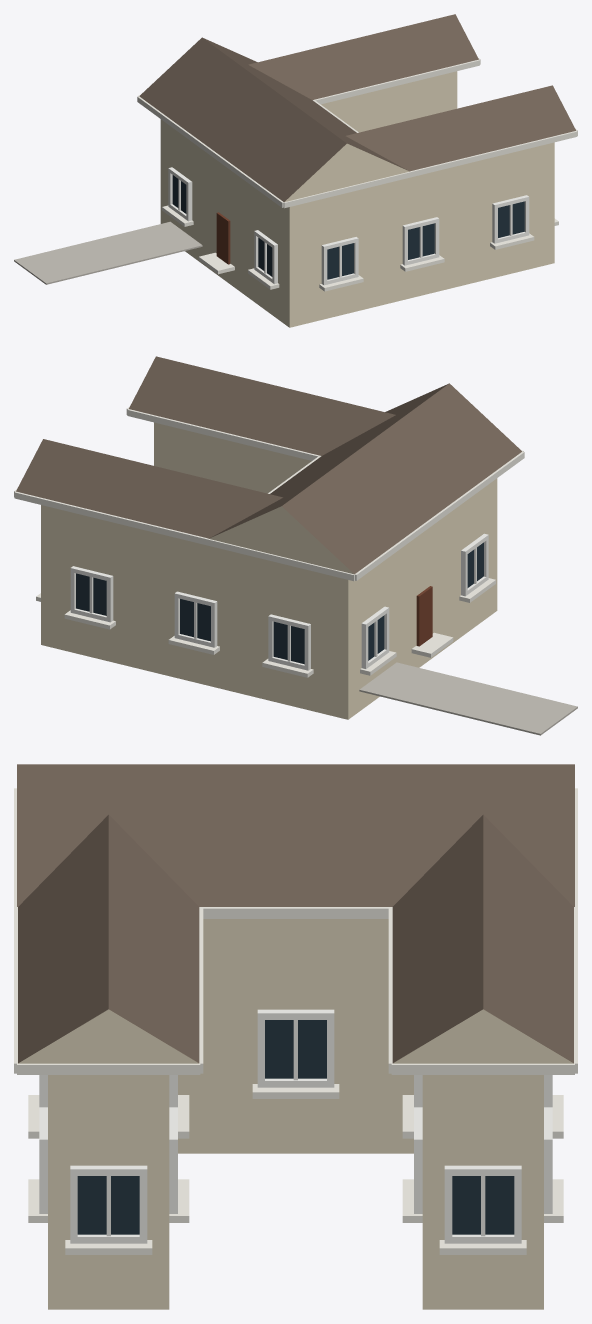
3 views of the same model, one above another, from view 1: azimuth 30°, elevation 25°; view 2: azimuth 150°, elevation 25°; view 3: azimuth 270°, elevation 25° (orthographic). The views are drawn at different scales.
Visible parts, largest first — view 1: b4526; view 2: b4526; view 3: b4526.
Boxes of the visible parts, x1,y1,x2,y2 form: b4526: (14, 14, 577, 327); b4526: (14, 356, 577, 735); b4526: (14, 764, 577, 1309).
Bounding box in the file's own units: 7819 × 3049 × 4543.
